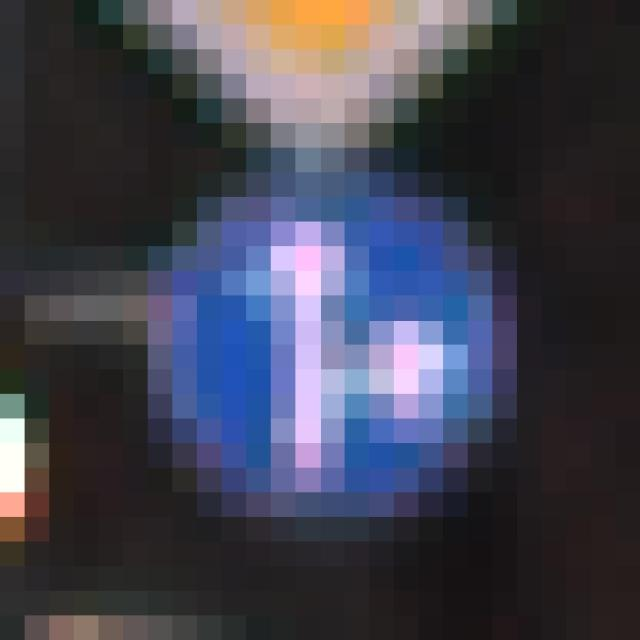Go Straight or Turn Right: (123, 148, 517, 542)
